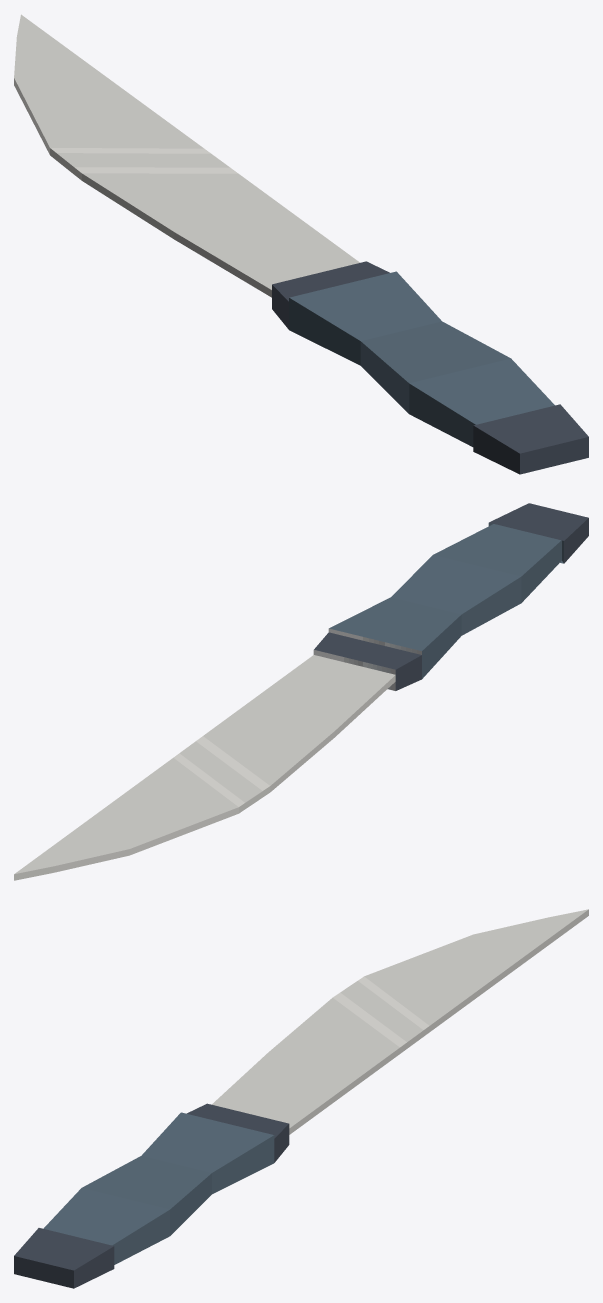
Rendered from knife.obj.
3 views of the same model, one above another, from view 1: azimuth 30°, elevation 25°; view 2: azimuth 150°, elevation 25°; view 3: azimuth 330°, elevation 25° (orthographic). The views are drawn at different scales.
Visible parts, largest first — view 1: knife; view 2: knife; view 3: knife.
Part boxes in pixels (x1,y1,x2,y2): knife: (14,14,588,474); knife: (14,503,588,880); knife: (14,909,588,1288).
Size of the model in its own units: 0.0203 by 0.0051 by 0.165.
